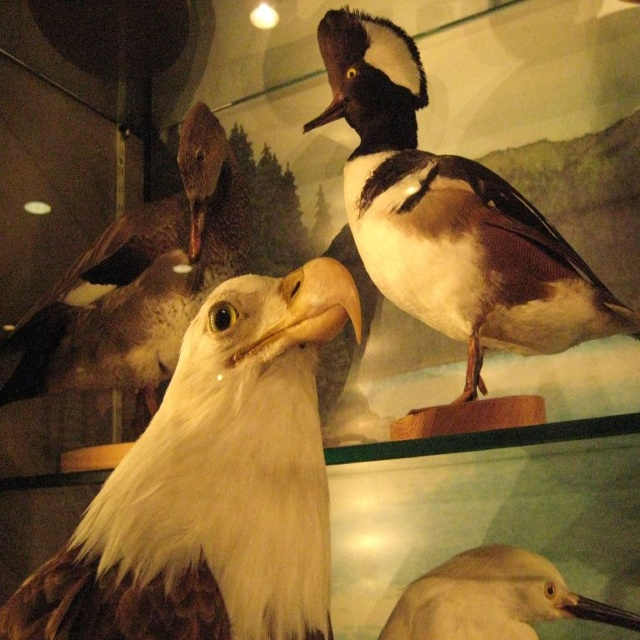Eagle: (0, 251, 362, 639)
